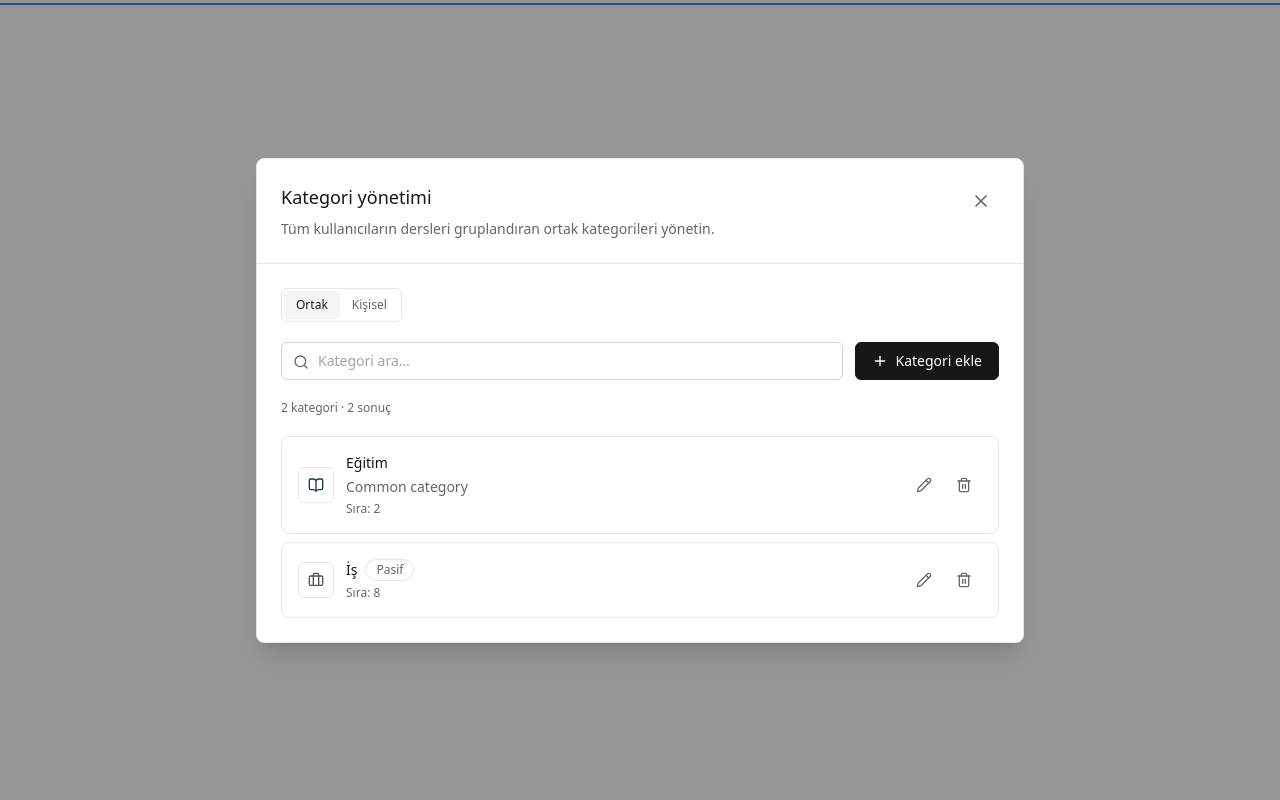
Scenario: does not send a no-op edit or retain a cancelled draft on a new opening
This screenshot has width=1280, height=800.
Click the button named "Eğitim kategorisini düzenle".
click(924, 484)  # box [906,466,942,502]
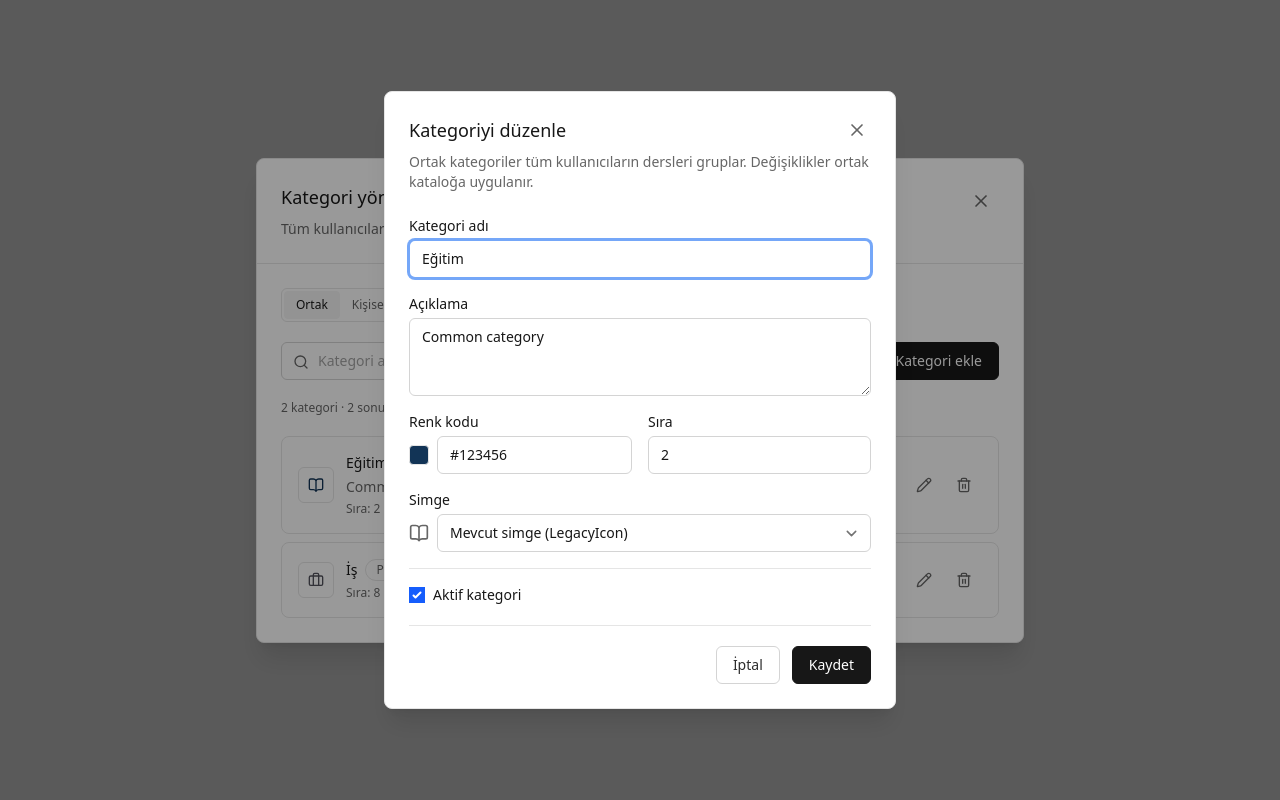
Click the button "Kaydet".
click(831, 665)  # box [792,646,871,684]
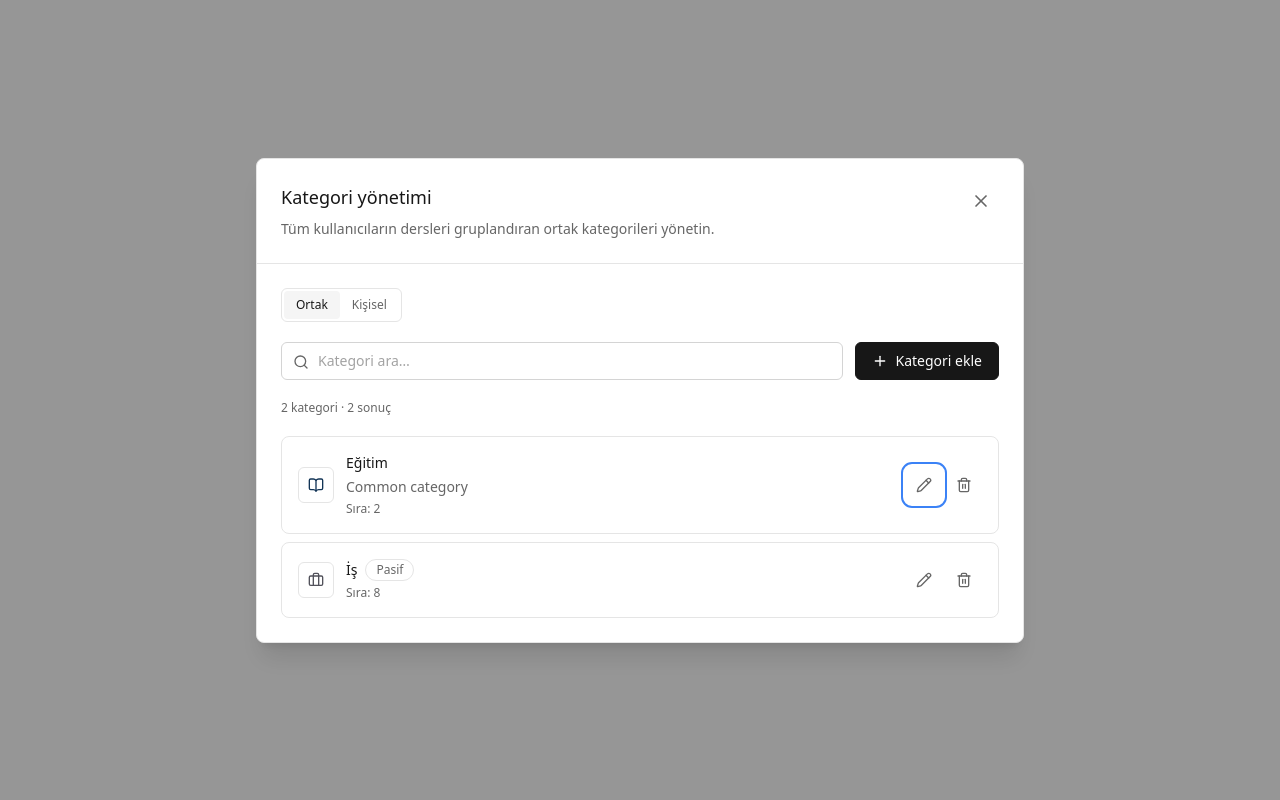
Click the button named "Eğitim kategorisini düzenle".
click(924, 484)  # box [906,466,942,502]
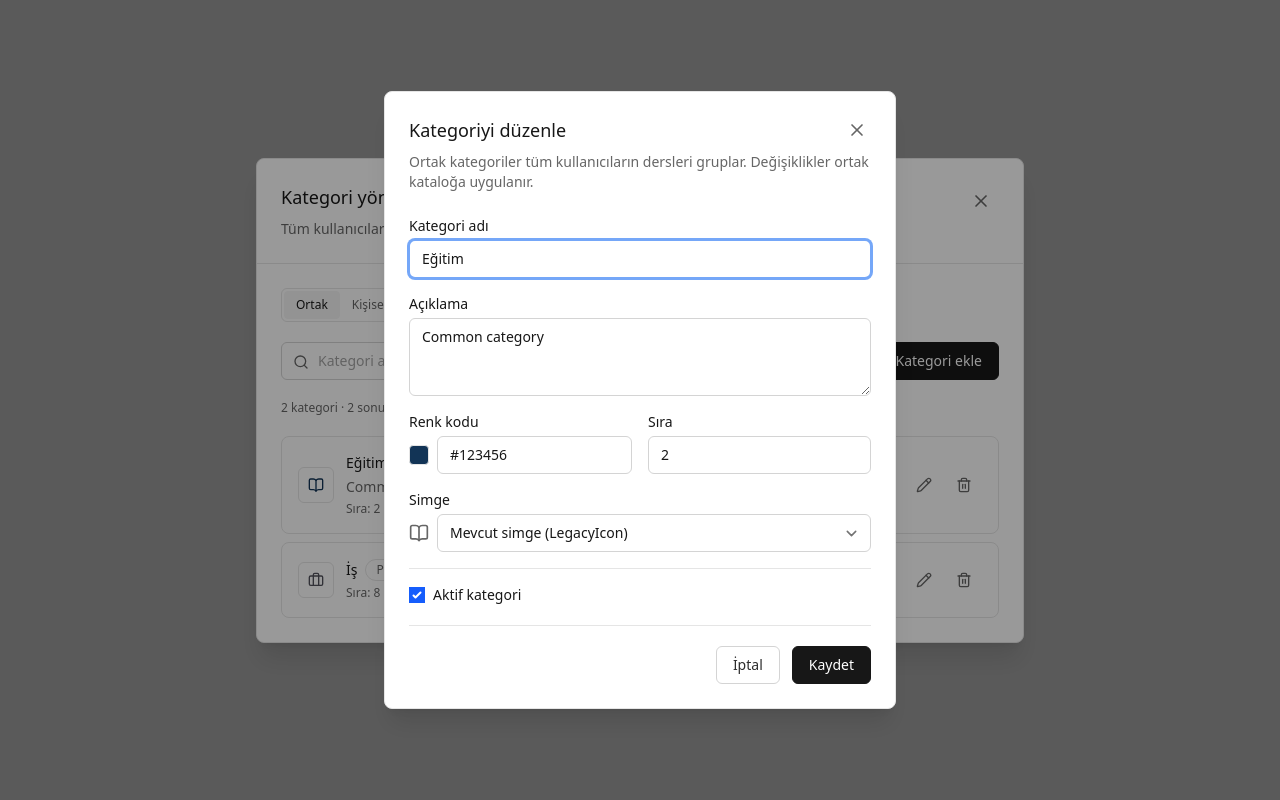
Replace the text in the field labelled "Kategori adı" with "Unsaved draft" at coordinates (640, 259), box [409,240,871,278]
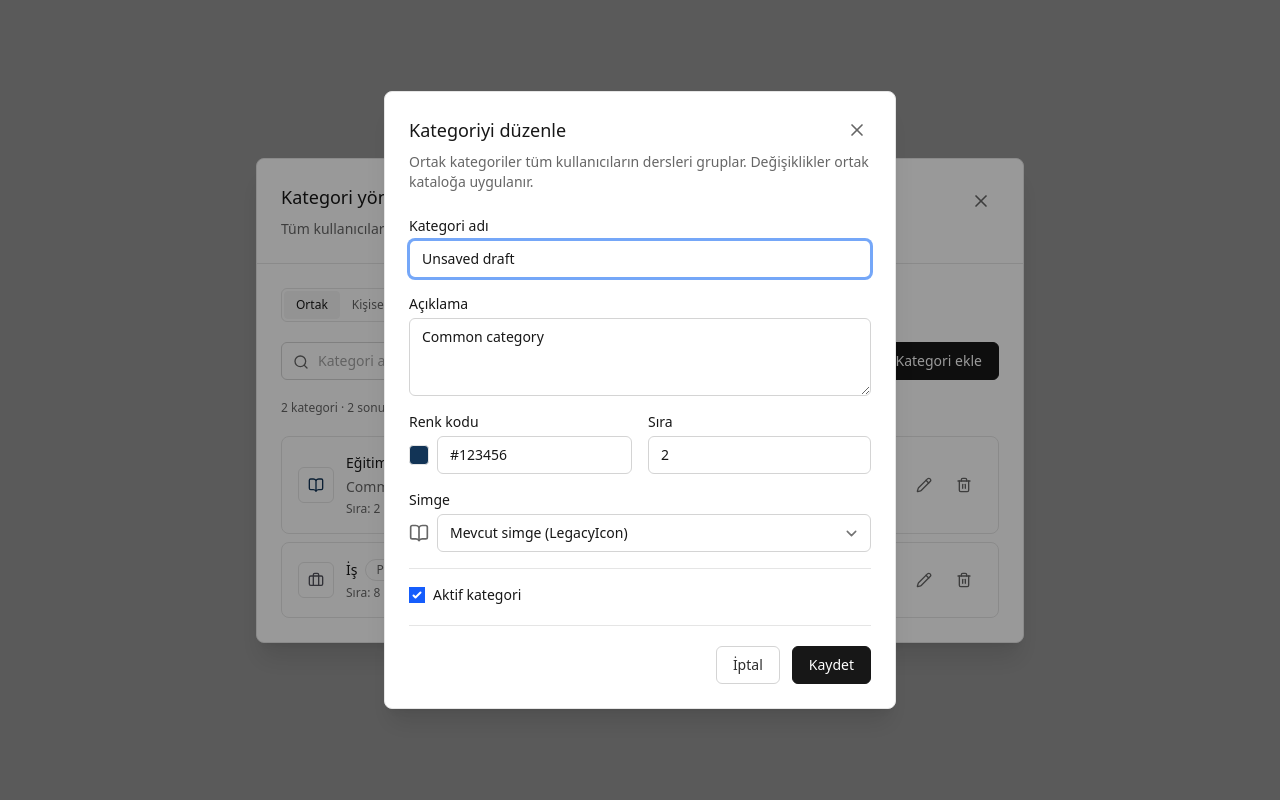
Click the button "İptal".
click(748, 665)  # box [716,646,780,684]
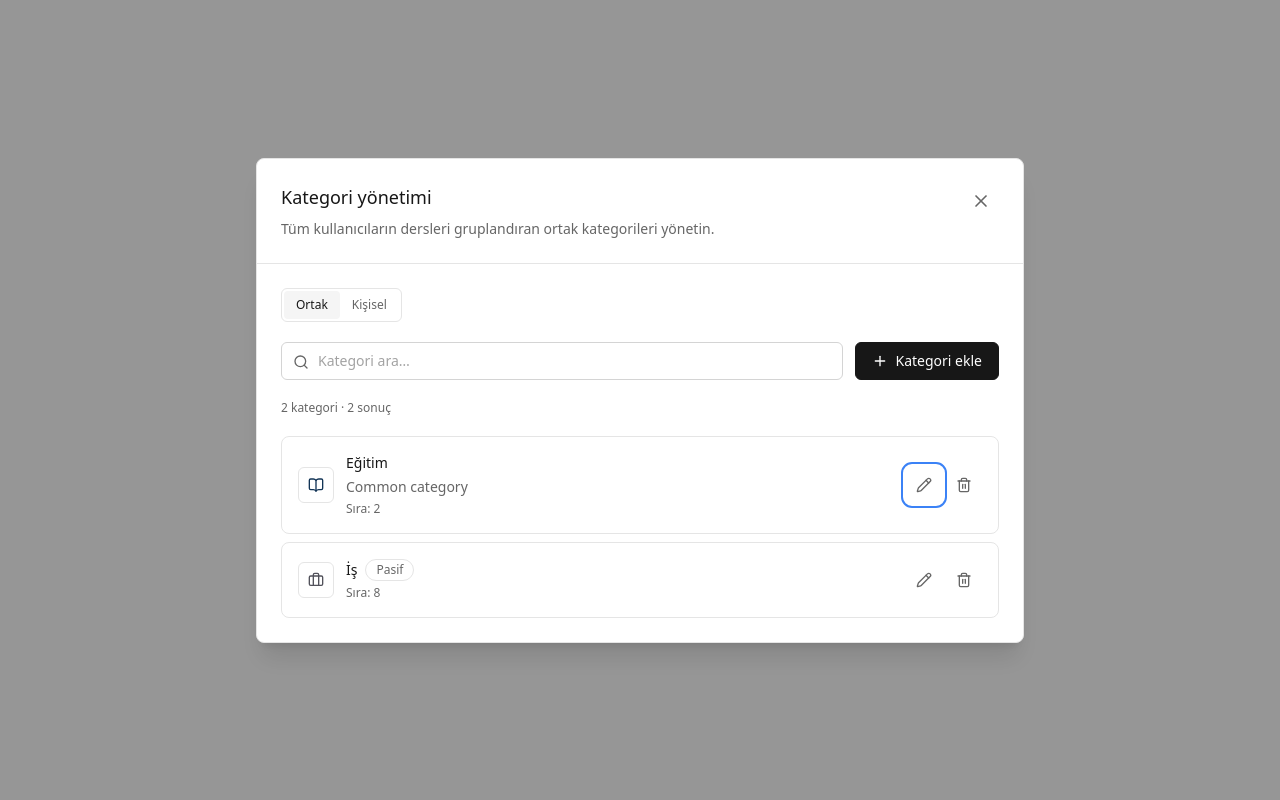
Click the button named "Eğitim kategorisini düzenle".
click(924, 484)  # box [906,466,942,502]
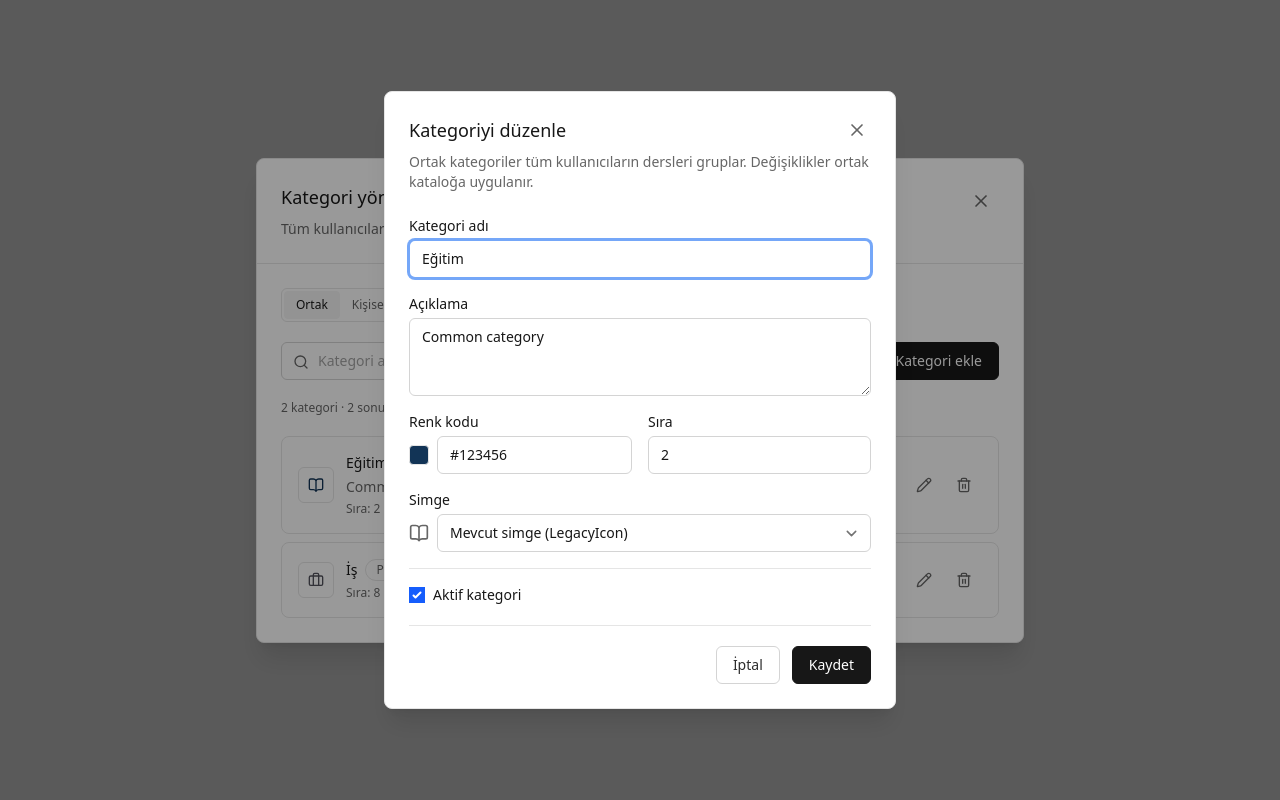
Expected: the field labelled "Kategori adı" holds "Eğitim", [409,240,871,278]
